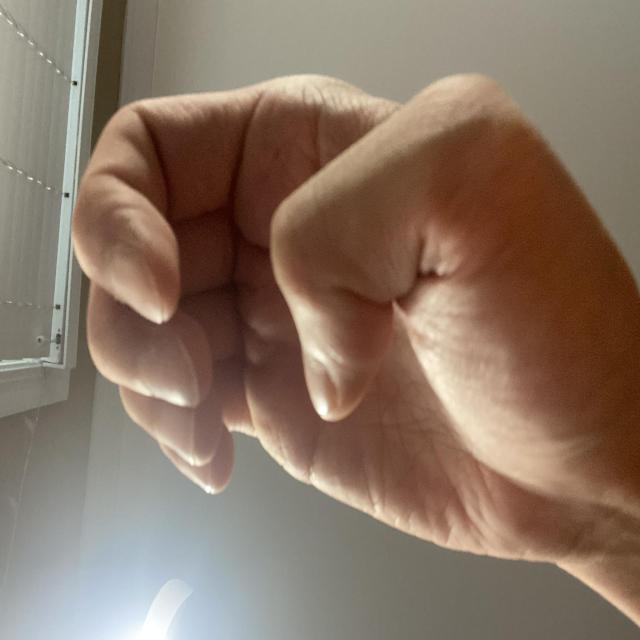E: (49, 88, 438, 640)
